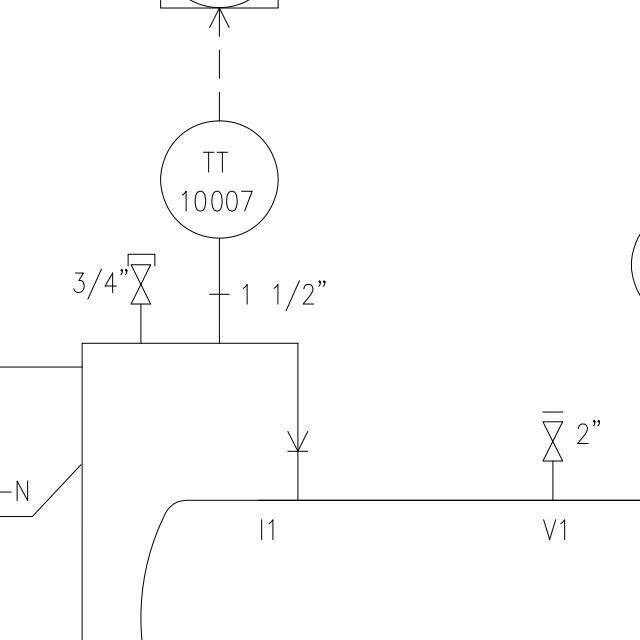EC: (123, 249, 160, 329)
GV: (539, 419, 564, 464), (129, 260, 153, 306)
